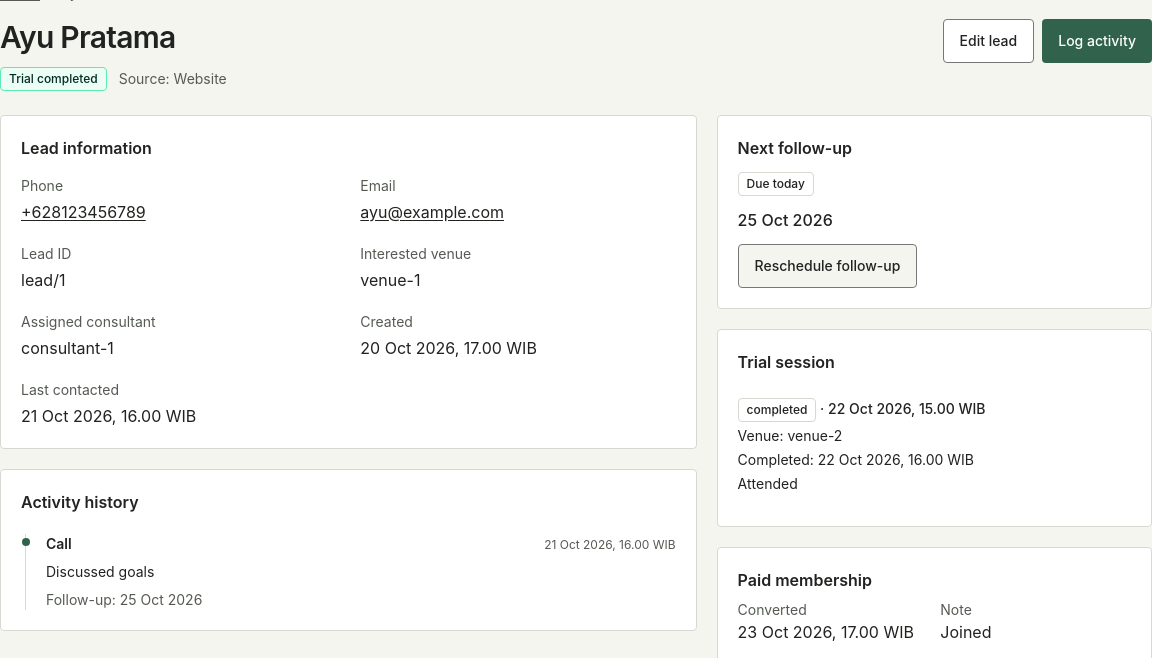
Test: lead detail › retains a failed activity form and its entered values
Click the button "Log activity" at (1097, 41), box [1042, 19, 1151, 63]
(page scrolled)
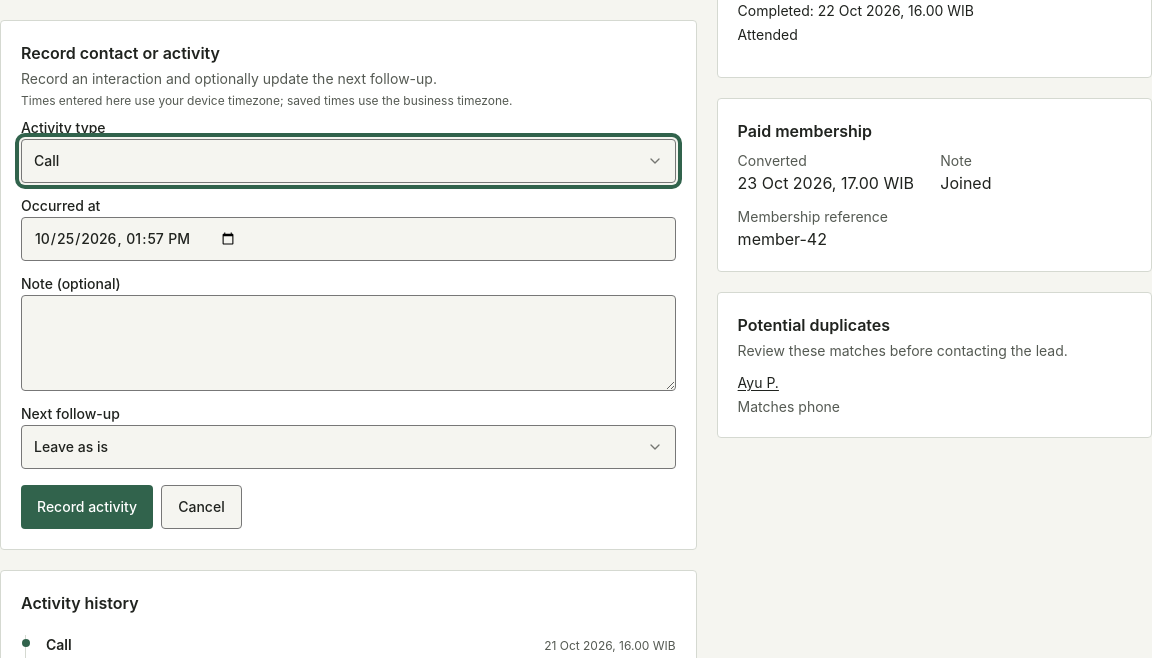
Type "Keep this draft" into the text box labelled "Note (optional)" at (348, 343), box [21, 295, 676, 391]
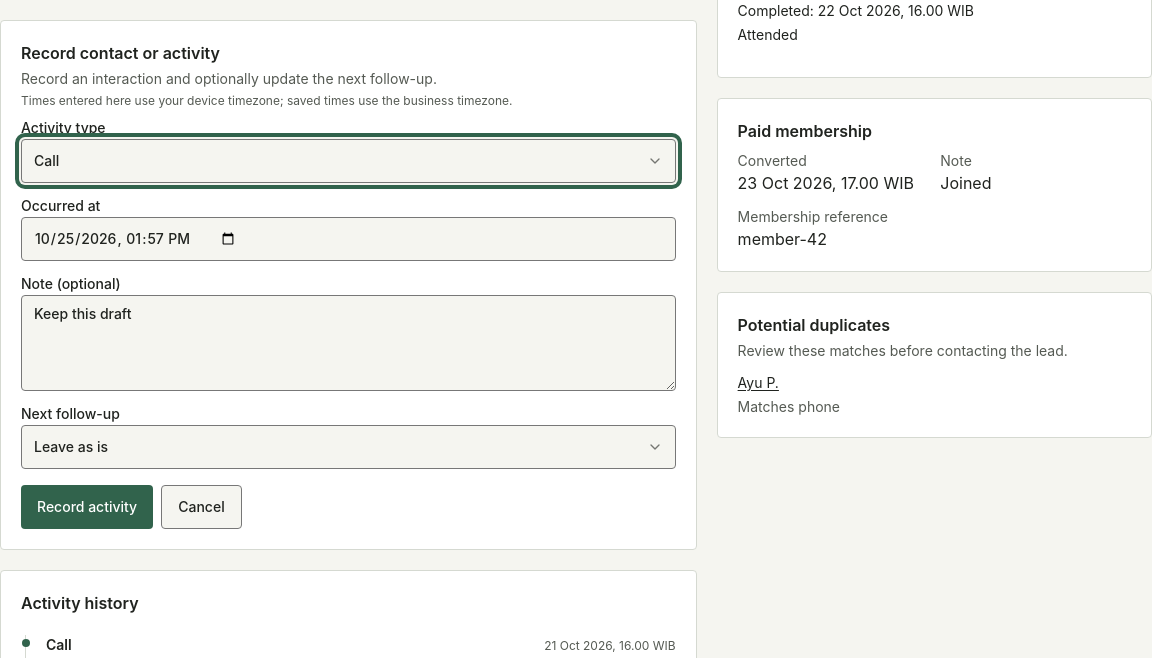
Click the button "Record activity" at (87, 507), box [21, 485, 153, 529]
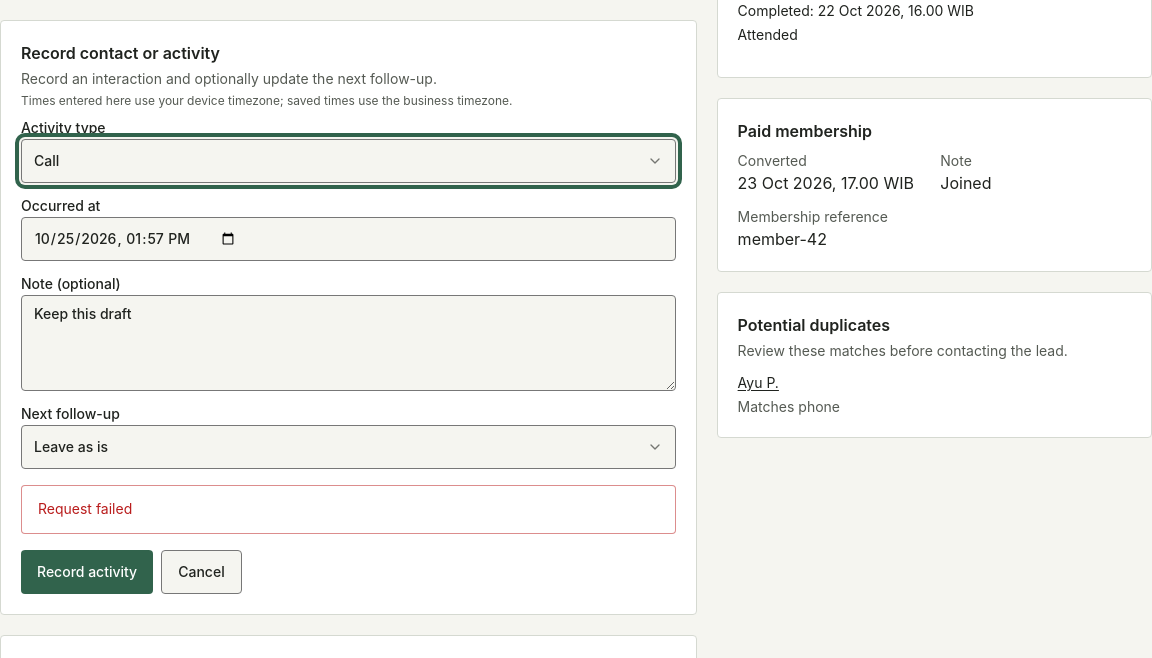
Check: the button "Record activity" is enabled, box [21, 550, 153, 594]
Check: the message reads "Request failed", box [38, 500, 132, 517]
